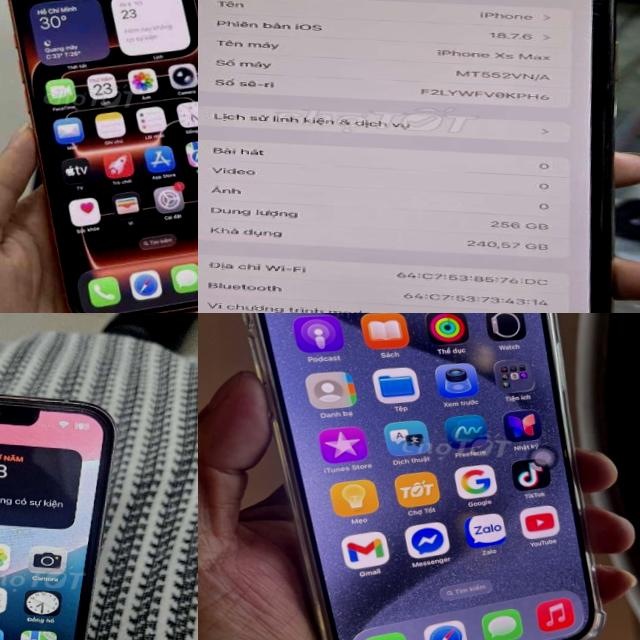gen_15: (198, 313, 640, 640)
gen_17: (0, 0, 198, 313)
gen_x_xs: (198, 0, 615, 313), (0, 376, 125, 640)
